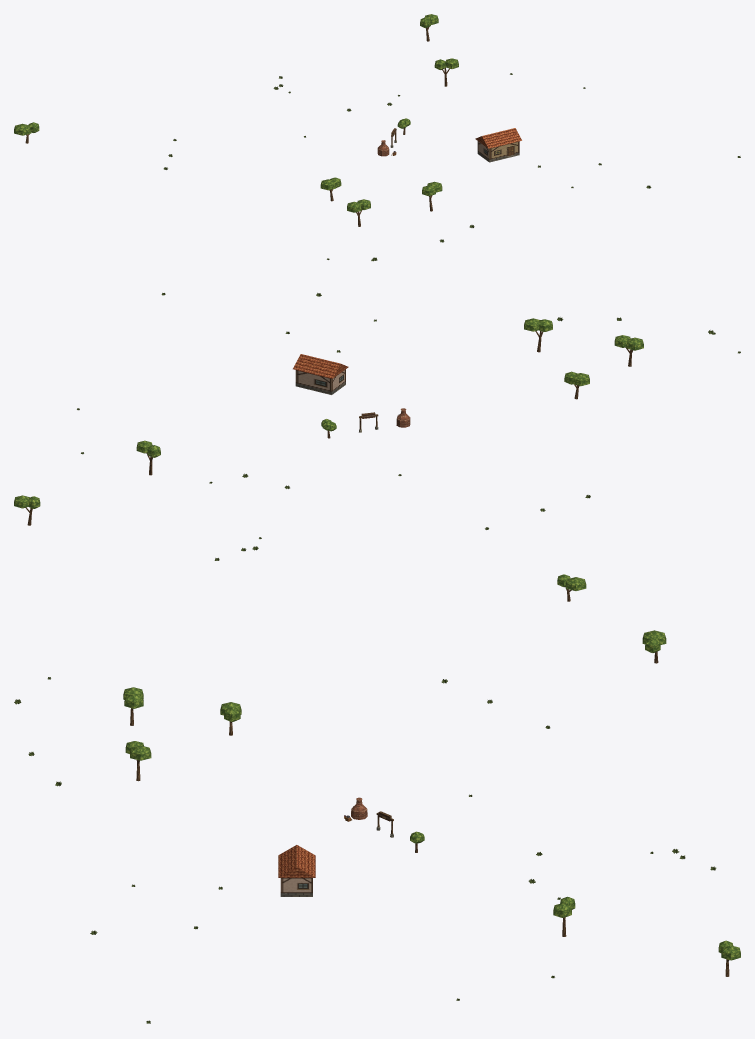
Rendered from FieldCell_4_0.fbx.
3 renders of one model, top to bottom at view 1: azimuth 30°, elevation 25°; view 2: azimuth 150°, elevation 25°; view 3: azimuth 270°, elevation 25°, orthographic. The views are drawn at different scales.
Parts seen in each view (by area): view 1: FieldCell_4_0; view 2: FieldCell_4_0; view 3: FieldCell_4_0.
Boxes of the visible parts, x1,y1,x2,y2 form: FieldCell_4_0: (14,14,521,226); FieldCell_4_0: (14,318,643,601); FieldCell_4_0: (123,630,740,976).
Bounding box in the file's own units: 16432 × 1997 × 13979.
